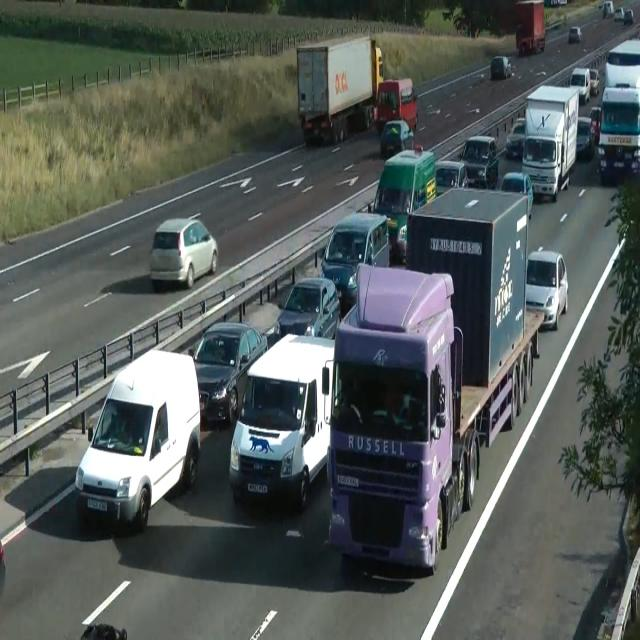bus: (187, 321, 268, 427), (149, 217, 219, 289), (274, 276, 341, 342), (525, 247, 568, 331), (501, 170, 534, 220), (380, 119, 414, 158), (434, 159, 468, 197), (506, 117, 526, 159), (576, 116, 594, 160), (80, 623, 127, 639), (596, 611, 617, 639), (490, 55, 511, 79), (589, 106, 601, 144), (614, 6, 634, 24), (589, 68, 599, 96), (602, 0, 614, 19), (568, 26, 582, 42), (547, 0, 567, 6)
car: (323, 262, 478, 574)
jeep: (75, 348, 201, 532), (228, 332, 336, 511), (369, 144, 437, 261), (319, 210, 390, 306), (459, 134, 499, 188), (568, 66, 590, 103)
minibus: (405, 185, 529, 388), (296, 34, 384, 146), (522, 84, 579, 202), (598, 83, 640, 185), (373, 77, 417, 135), (604, 37, 640, 88), (515, 0, 545, 56)
